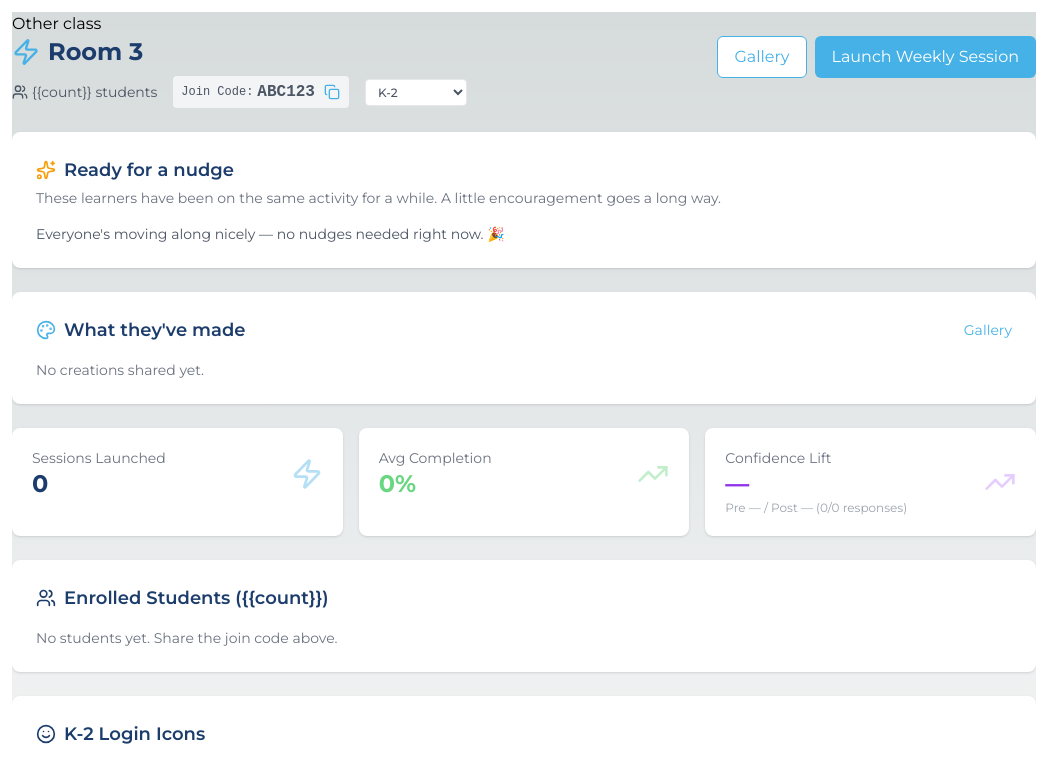
Test: confirmed grade-band changes (#903) › ignores a late save response after navigating to another class
Select "Grades 3-5" in the dropdown at (416, 92), box [365,78,467,106]
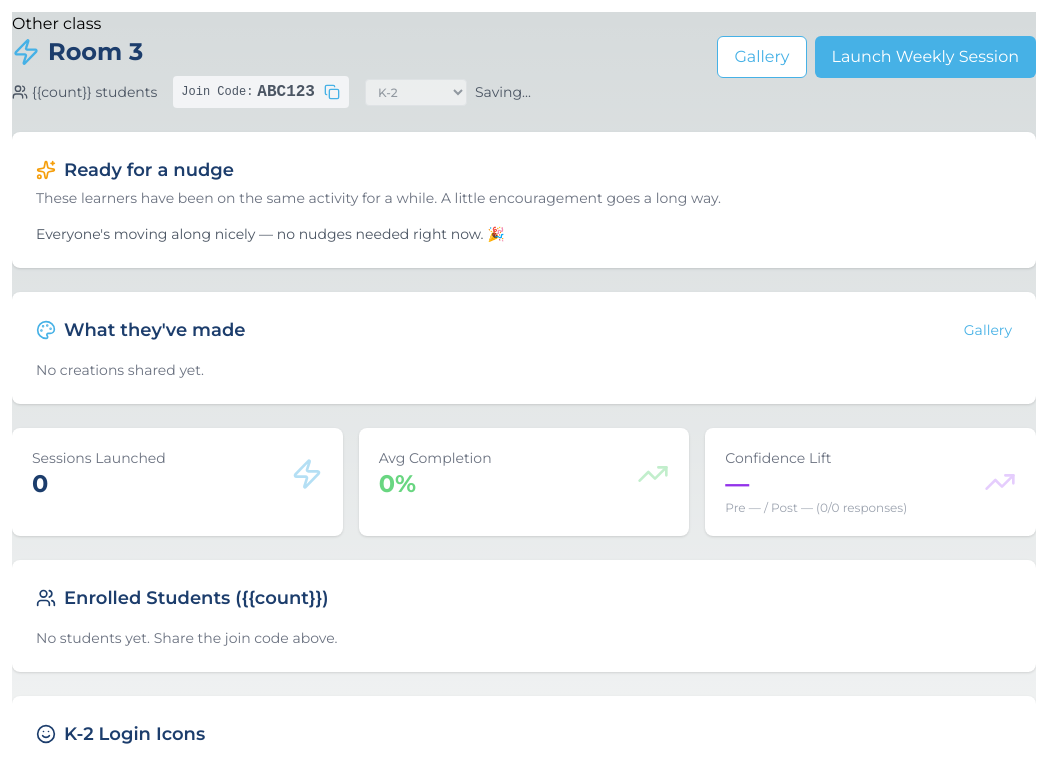
Click the link "Other class" at (57, 24), box [12,14,101,33]
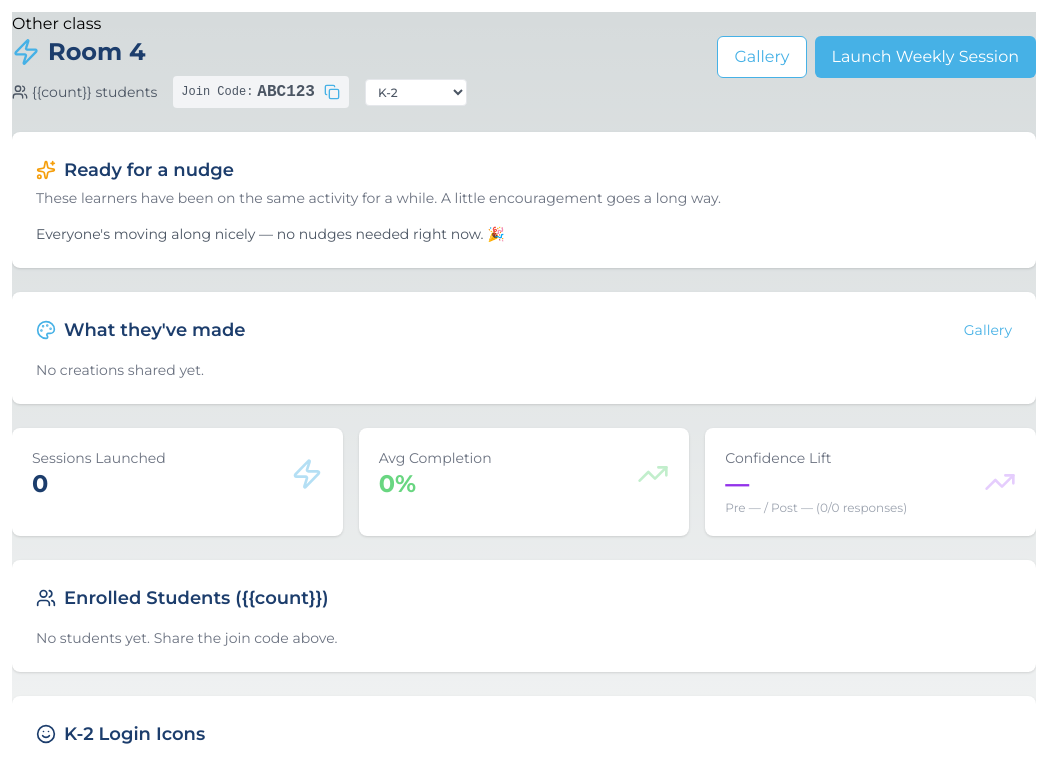
Check: the dropdown shows "K-2", box [365,78,467,106]
Check: the heading "Room 4" is shown, box [12,37,146,66]
